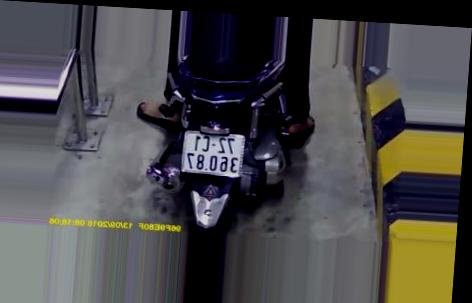License_Plate: (175, 129, 252, 181)
